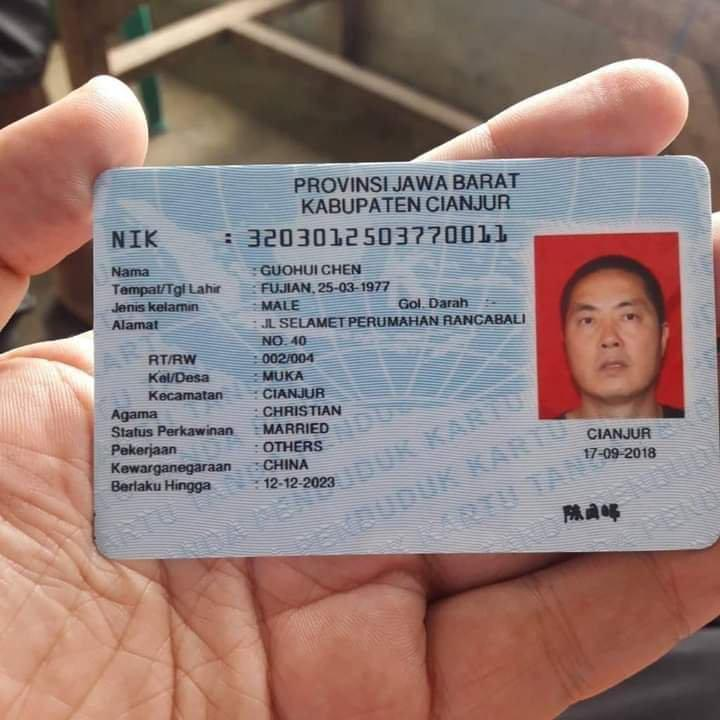ID-card: (100, 152, 717, 556)
